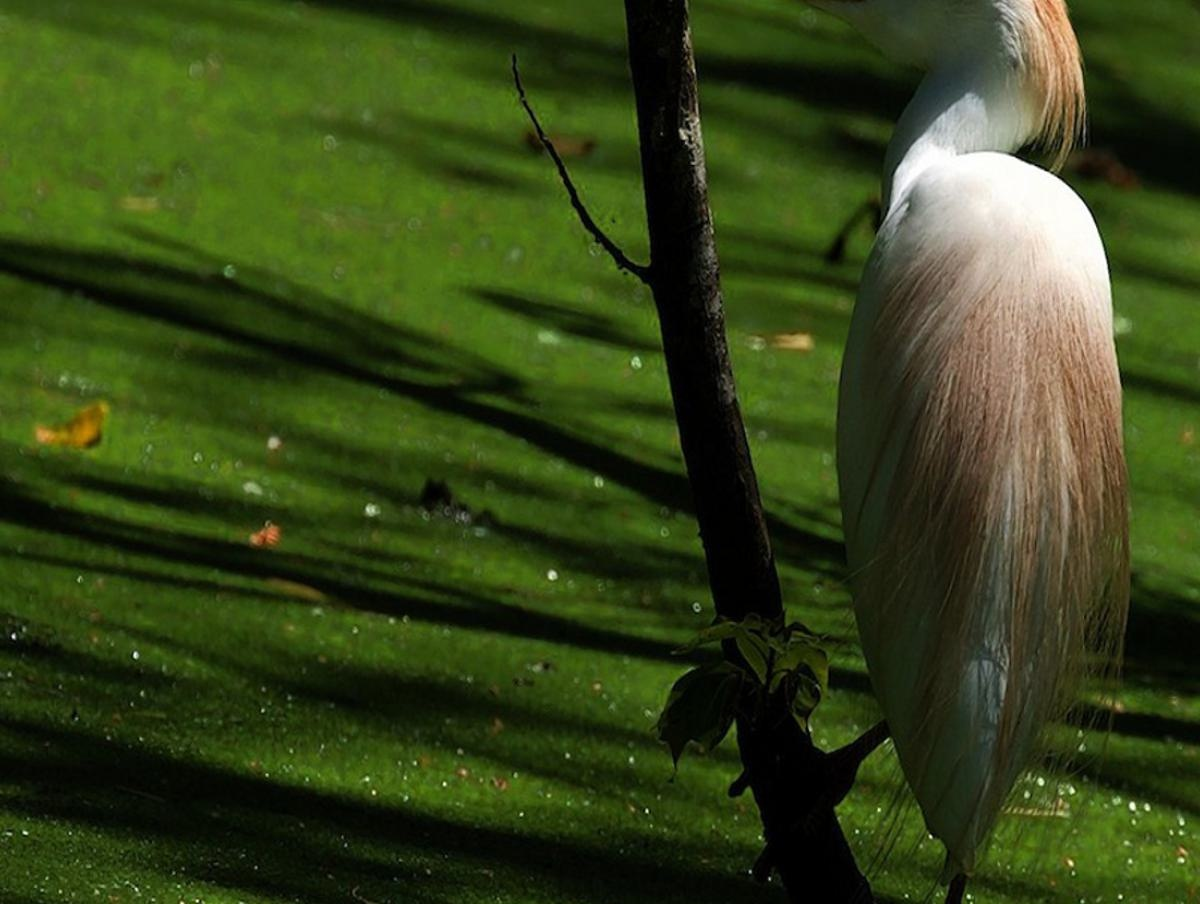egret: (743, 1, 1157, 870)
